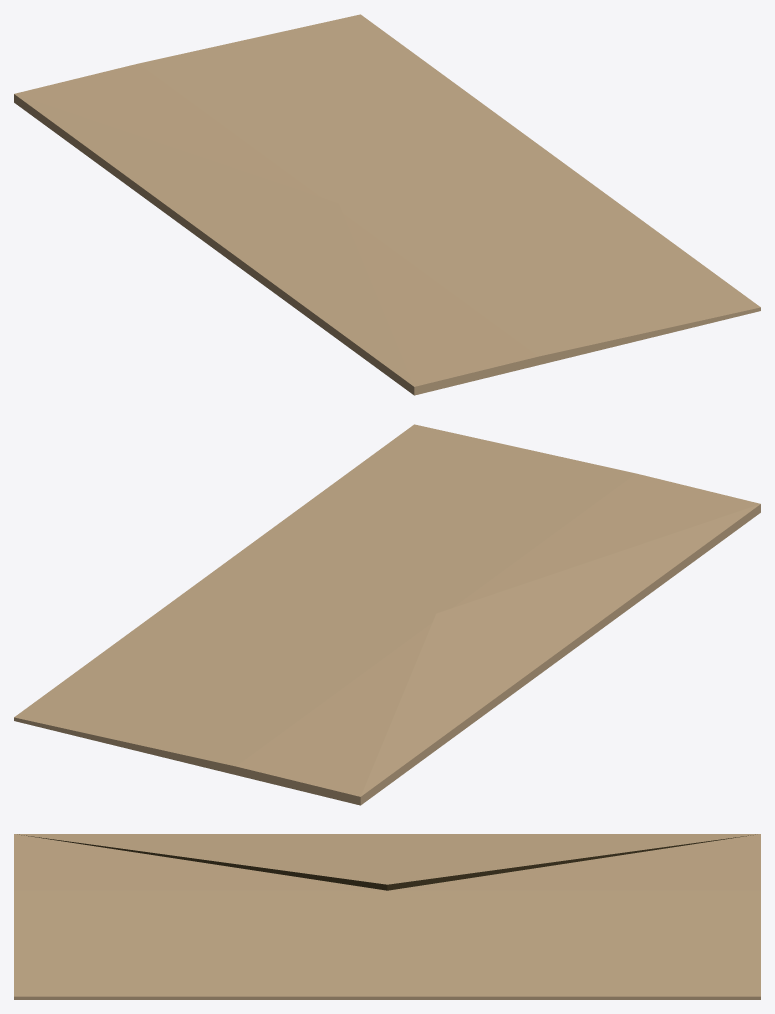
The model's file is carta1.fbx.
The picture shows the model from 3 angles, top to bottom: view 1: azimuth 30°, elevation 25°; view 2: azimuth 150°, elevation 25°; view 3: azimuth 270°, elevation 25°; orthographic projection. The views are drawn at different scales.
Parts seen in each view (by area): view 1: Cube; view 2: Cube; view 3: Cube.
Boxes of the visible parts, x1,y1,x2,y2 form: Cube: [14, 14, 760, 395]; Cube: [14, 424, 760, 805]; Cube: [14, 834, 760, 999].
Size of the model in its own units: 200 by 8.33 by 400.
